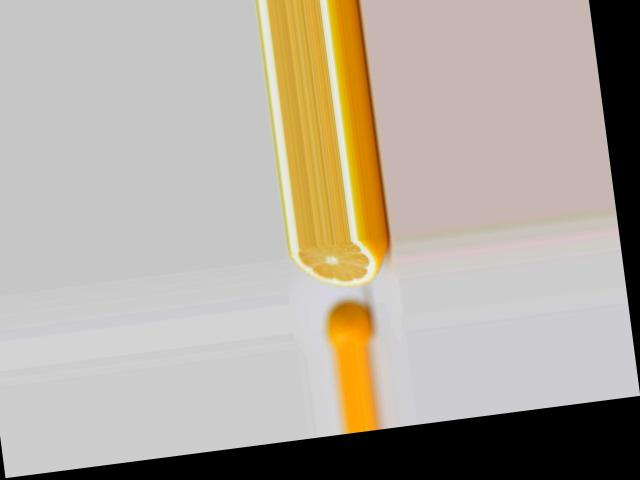lemon: (326, 301, 371, 351)
